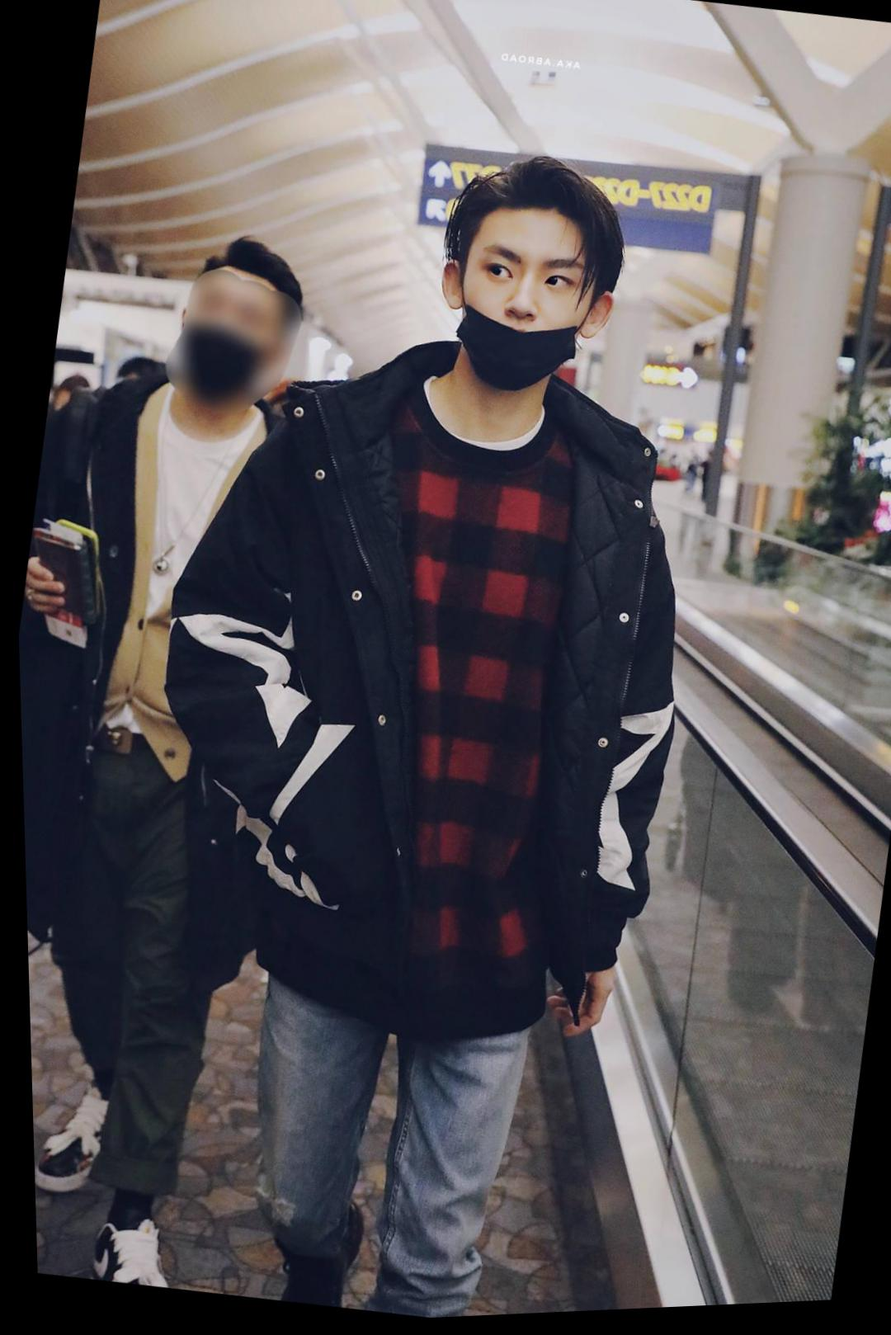OK: (170, 272, 285, 401)
WRONG: (445, 228, 600, 409)
